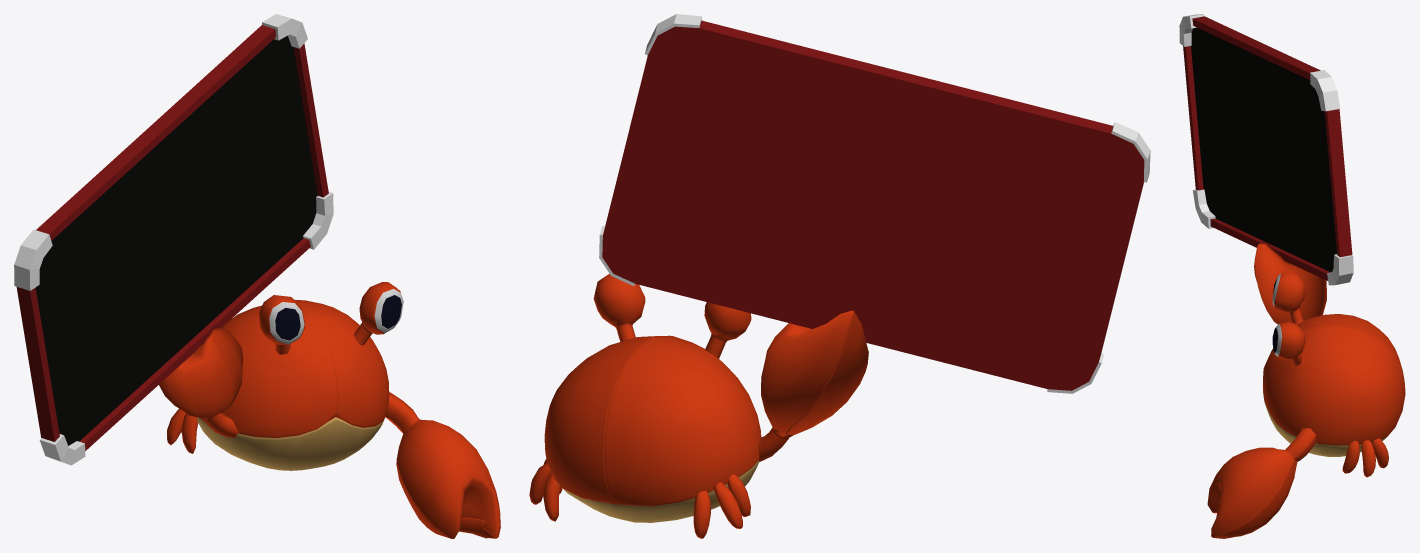
File: Craby_2.FBX
3 renders of one model, left to right at view 1: azimuth 30°, elevation 25°; view 2: azimuth 150°, elevation 25°; view 3: azimuth 270°, elevation 25°, orthographic. The views are drawn at different scales.
Parts seen in each view (by area): view 1: Pizarra 02, cuerpo 1, brazoIz_crab 1, brazoDer_crab 1; view 2: Pizarra 02, cuerpo 1, brazoDer_crab 1; view 3: Pizarra 02, cuerpo 1, brazoIz_crab 1, brazoDer_crab 1.
Boxes of the visible parts, x1=… form: Pizarra 02: x1=14, y1=14, x2=333, y2=465; cuerpo 1: x1=167, y1=282, x2=403, y2=470; brazoIz_crab 1: x1=385, y1=392, x2=500, y2=538; brazoDer_crab 1: x1=159, y1=327, x2=242, y2=438; Pizarra 02: x1=599, y1=14, x2=1150, y2=393; cuerpo 1: x1=529, y1=274, x2=761, y2=538; brazoDer_crab 1: x1=758, y1=310, x2=868, y2=461; Pizarra 02: x1=1179, y1=14, x2=1353, y2=285; cuerpo 1: x1=1263, y1=272, x2=1405, y2=477; brazoIz_crab 1: x1=1207, y1=428, x2=1316, y2=538; brazoDer_crab 1: x1=1254, y1=243, x2=1326, y2=324.
Bounding box in the file's own units: 19.07 × 18.31 × 9.23.
